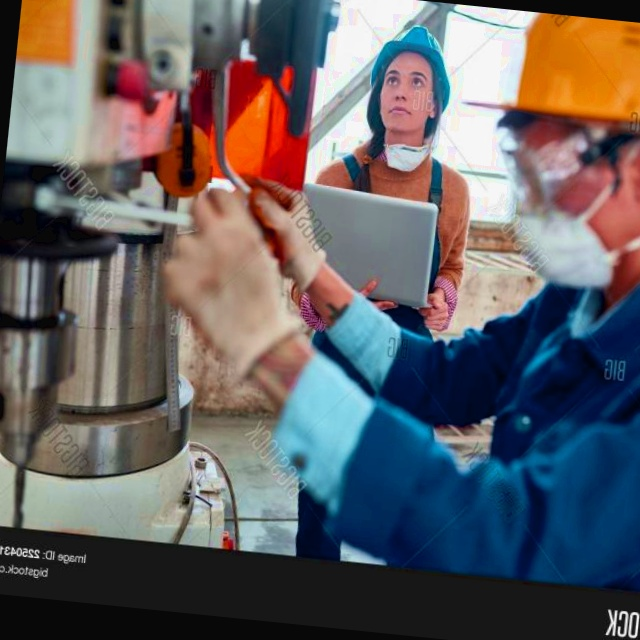Con_Casco: (364, 24, 458, 150)
